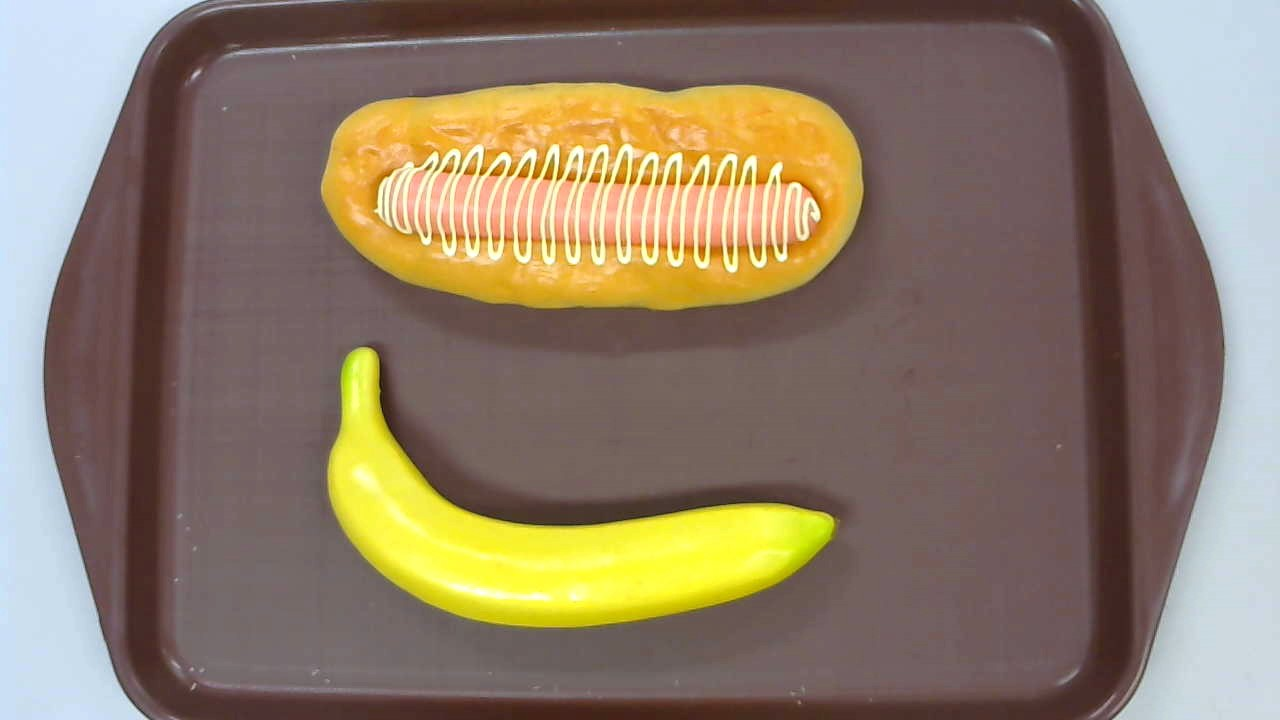banana: (327, 346, 837, 629)
hot dog: (320, 81, 863, 311)
